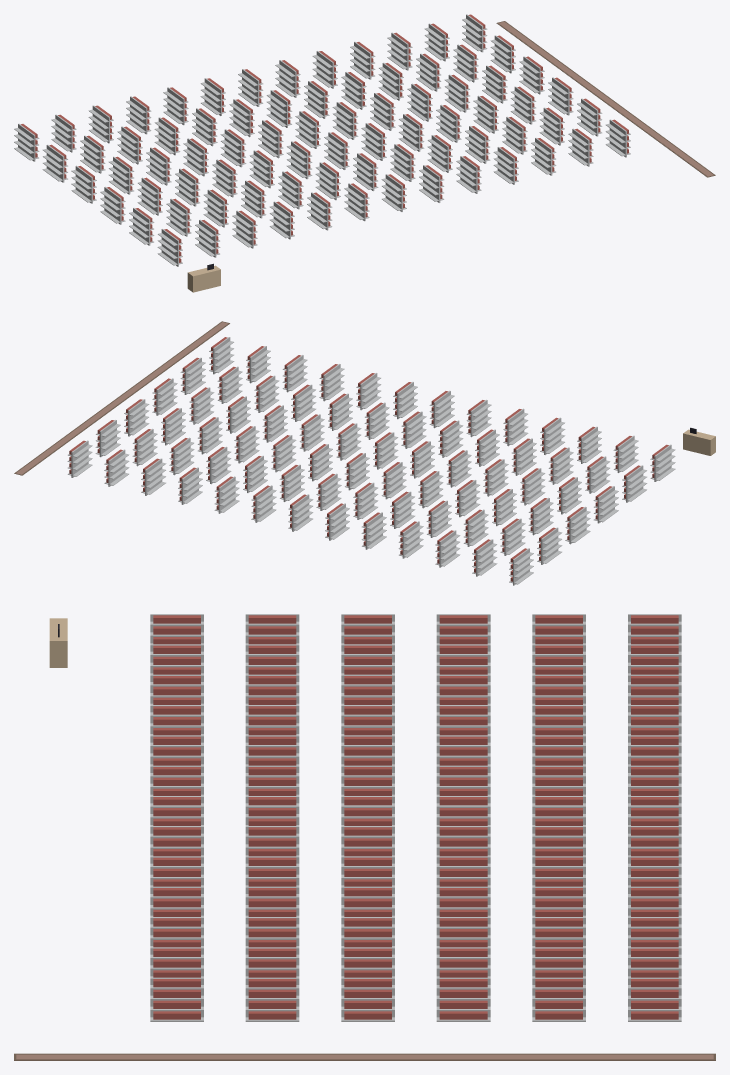
Rendered from fine-s0.glb.
3 renders of one model, top to bottom at view 1: azimuth 30°, elevation 25°; view 2: azimuth 150°, elevation 25°; view 3: azimuth 270°, elevation 25°, orthographic. The views are drawn at different scales.
Parts seen in each view (by area): view 1: soft-s0, shop-counter.000, shelf.019, shelf.001, shelf.062, shelf.026, shelf.044, shelf.037, shelf.069, shelf.005, shelf.007, shelf.055 (+68 smaller); view 2: soft-s0, shop-counter.000, shelf.039, shelf.041, shelf.012, shelf.015, shelf.021, shelf.024, shelf.040, shelf.056, shelf.005, shelf.007 (+68 smaller); view 3: soft-s0, shelf.074, shelf.076, shelf.072, shelf.073, shelf.075, shelf.077, shelf.008, shelf.010, shelf.026, shelf.028, shelf.050 (+68 smaller).
Part boxes in pixels (<box>): soft-s0: <box>496,21,715,177</box>; shop-counter.000: <box>187,263,220,292</box>; shelf.019: <box>154,117,180,155</box>; shelf.001: <box>42,144,67,182</box>; shelf.062: <box>445,74,469,112</box>; shelf.026: <box>220,129,246,167</box>; shelf.044: <box>332,102,358,139</box>; shelf.037: <box>266,90,292,127</box>; shelf.069: <box>510,86,536,124</box>; shelf.005: <box>157,229,182,266</box>; shelf.007: <box>80,135,105,173</box>; shelf.055: <box>378,62,403,100</box>; soft-s0: <box>14,321,229,475</box>; shop-counter.000: <box>683,427,715,455</box>; shelf.039: <box>373,432,398,469</box>; shelf.041: <box>429,390,454,428</box>; shelf.012: <box>435,530,460,567</box>; shelf.015: <box>520,468,545,505</box>; shelf.021: <box>483,459,508,496</box>; shelf.024: <box>361,512,386,549</box>; shelf.040: <box>401,411,426,448</box>; shelf.056: <box>234,426,259,463</box>; shelf.005: <box>650,444,675,481</box>; shelf.007: <box>500,518,525,555</box>; soft-s0: <box>14,1053,715,1060</box>; shelf.074: <box>436,977,490,1021</box>; shelf.076: <box>245,977,299,1021</box>; shelf.072: <box>628,977,681,1021</box>; shelf.073: <box>532,977,585,1021</box>; shelf.075: <box>341,977,394,1021</box>; shelf.077: <box>150,977,203,1021</box>; shelf.008: <box>436,644,490,674</box>; shelf.010: <box>245,644,299,674</box>; shelf.026: <box>436,735,490,765</box>; shelf.028: <box>245,735,299,765</box>; shelf.050: <box>436,856,490,886</box>.
Bounding box in the file's own units: 32.93 × 1.6 × 23.51.
